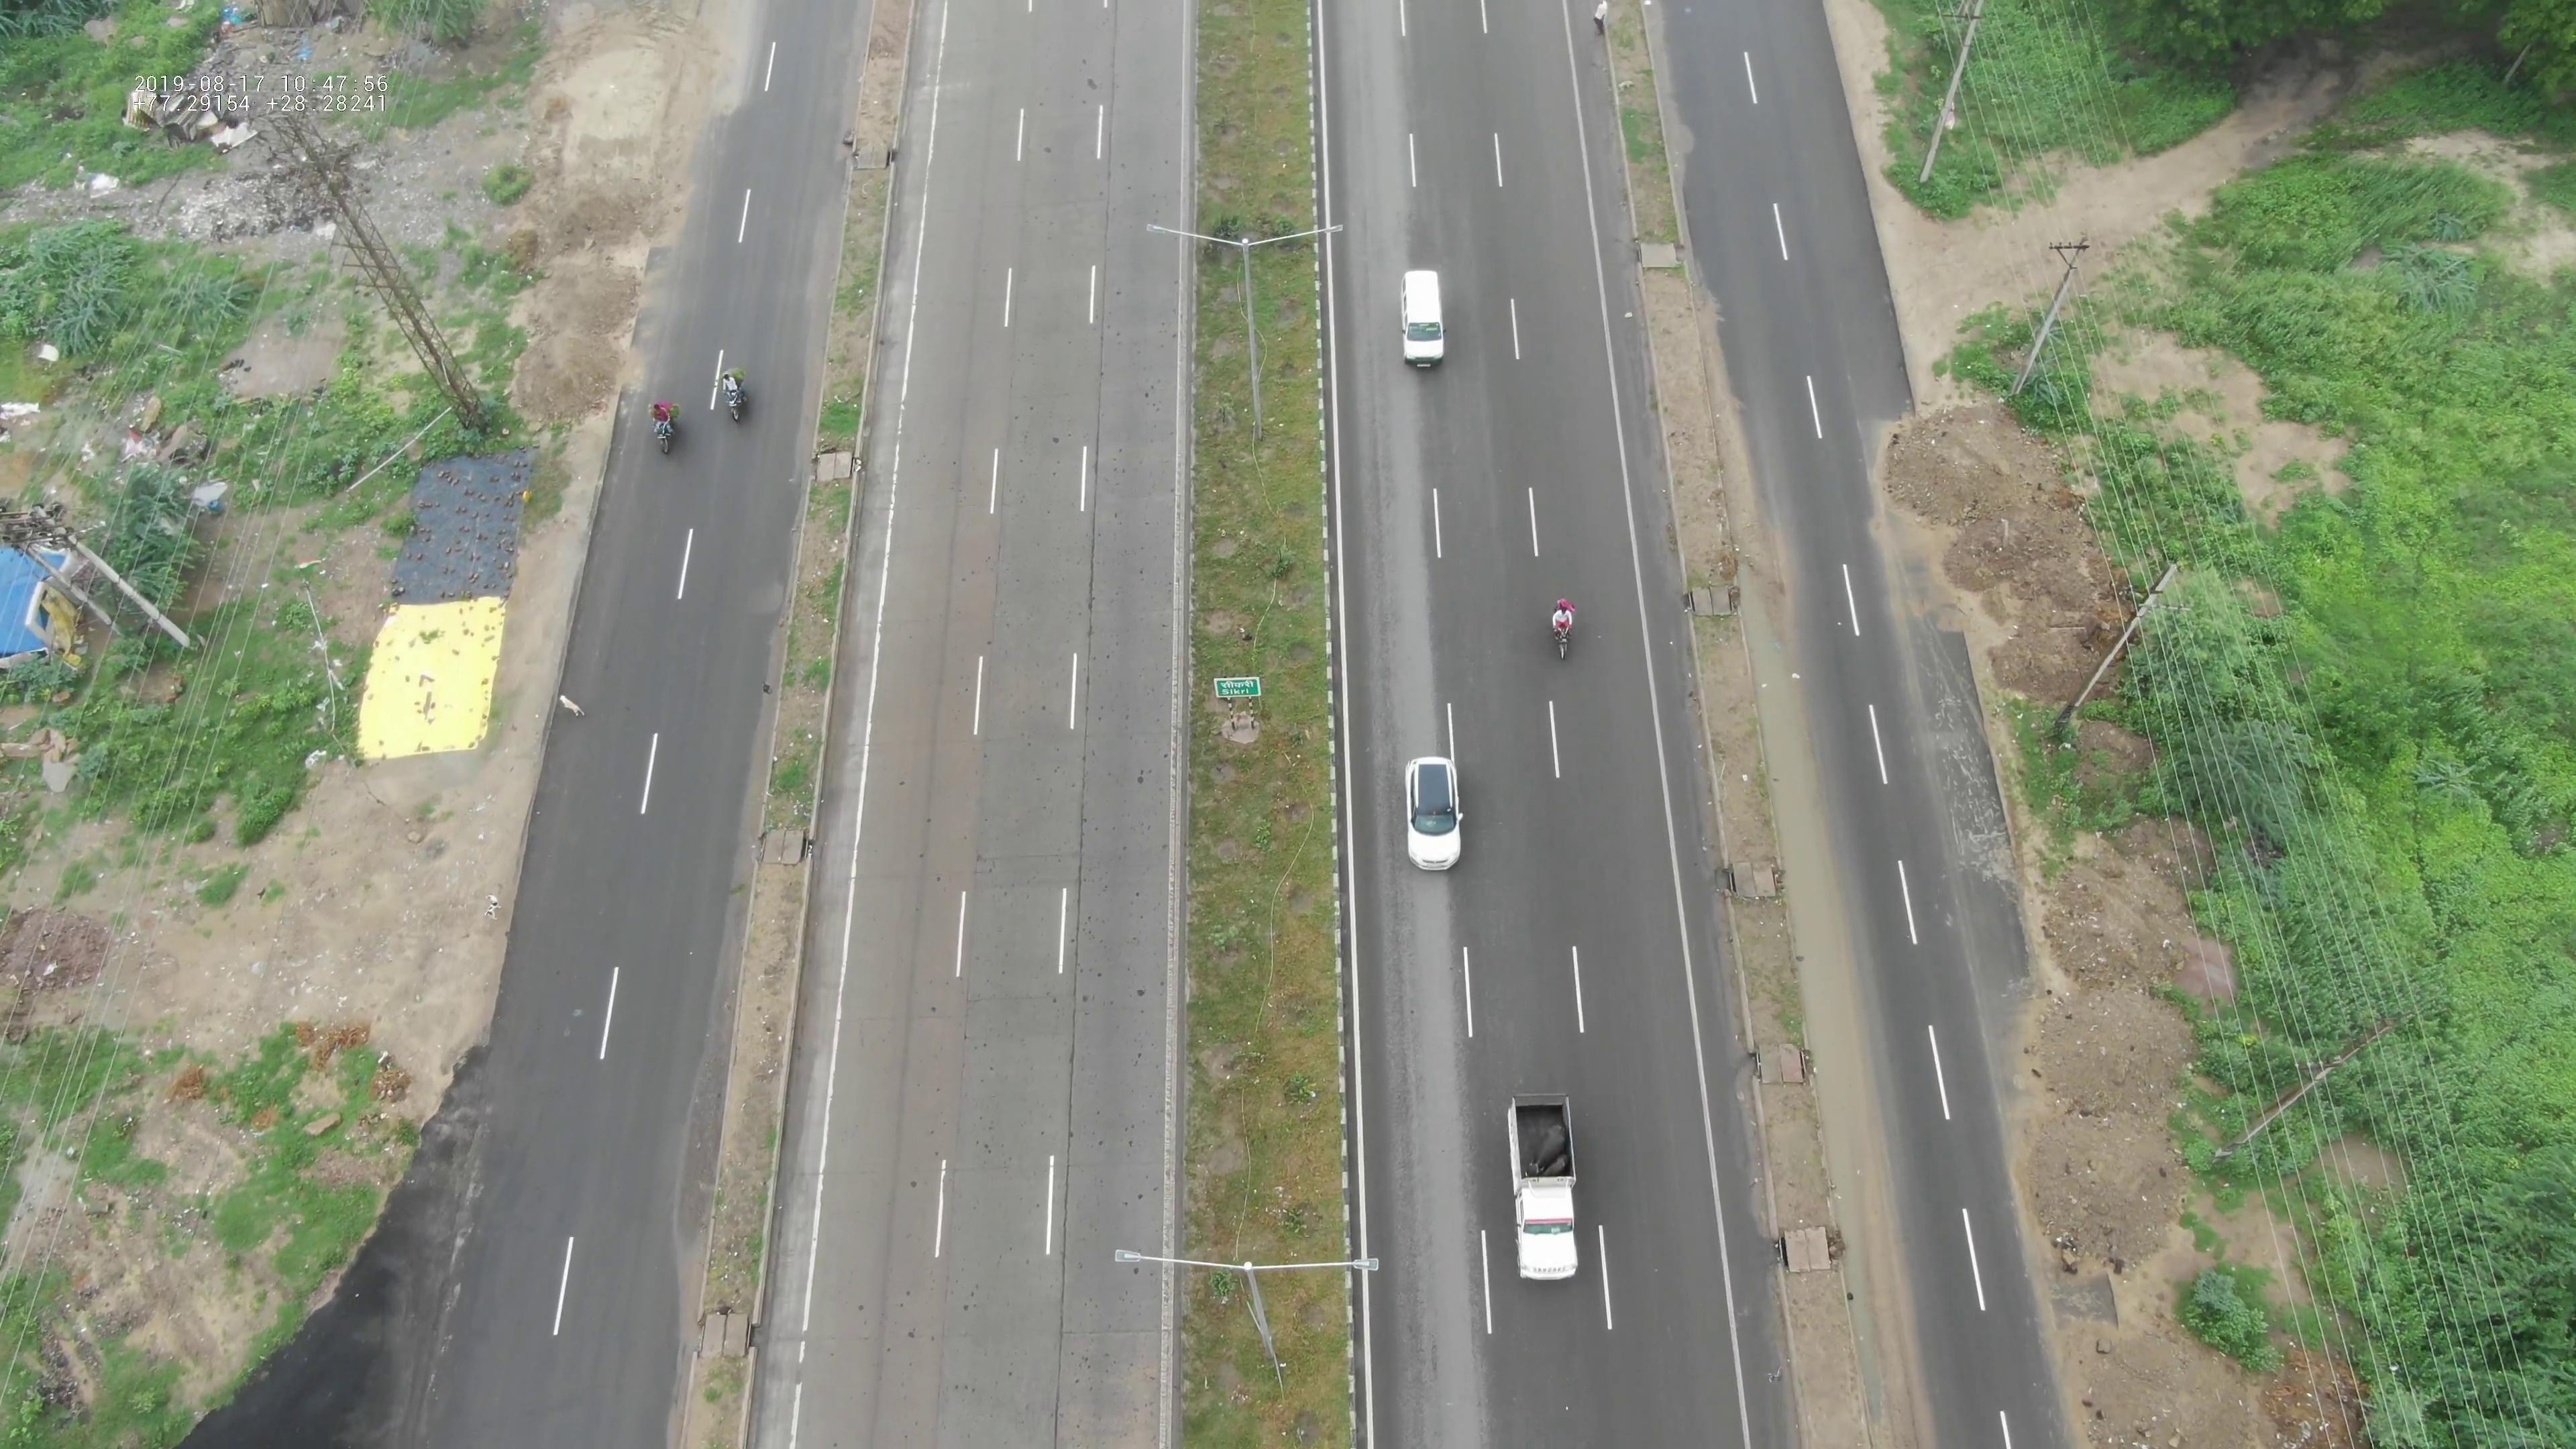Mud_Heaps: (513, 35, 628, 412)
Mud_heaps: (1886, 375, 2123, 683), (2020, 842, 2189, 1260)
